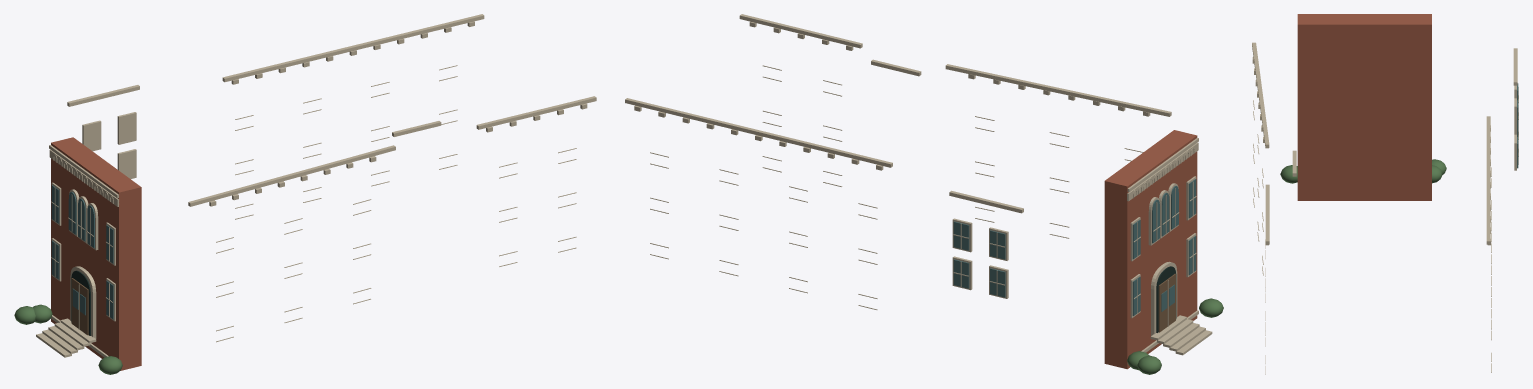
Rendered from chapman-west-frieze-overlay-2026-11-10.glb.
The picture shows the model from 3 angles, left to right: view 1: azimuth 30°, elevation 25°; view 2: azimuth 150°, elevation 25°; view 3: azimuth 270°, elevation 25°; orthographic projection. The views are drawn at different scales.
Visible parts, largest first — view 1: chapman-part-0, chapman-part-1; view 2: chapman-part-0, chapman-part-1; view 3: chapman-part-0, chapman-part-1.
Part boxes in pixels (x1,y1,x2,y2): chapman-part-0: (36, 14, 596, 370); chapman-part-1: (14, 304, 122, 374); chapman-part-0: (625, 14, 1212, 369); chapman-part-1: (1127, 298, 1223, 374); chapman-part-0: (1252, 14, 1518, 374); chapman-part-1: (1280, 159, 1446, 183).
Size of the model in its own units: 41.98 by 14.46 by 19.86.
